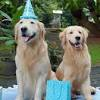Golden Retriever: (9, 12, 56, 98), (56, 24, 100, 100)
